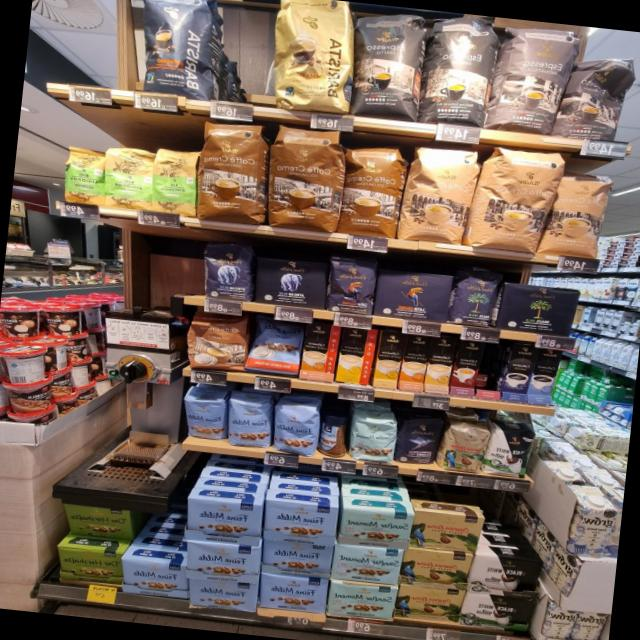AB Bohne: (200, 240, 254, 303)
AB Gemahlen: (248, 254, 329, 310)
Athiopien Bohne: (58, 144, 106, 206)
Athiopien Gemahlen: (148, 146, 200, 222), (100, 144, 156, 214)
BM Bohne: (447, 263, 504, 329)
BM Gemahlen: (496, 282, 582, 338)
BW Bohne: (480, 425, 537, 480)
BW Gemahlen: (456, 588, 540, 633), (465, 553, 544, 595)
Barista CB: (263, 0, 360, 118)
Barista Espresso: (131, 0, 222, 100)
C Fino Bohne: (393, 418, 447, 466)
CC Mild: (462, 146, 573, 254), (394, 143, 486, 247), (536, 167, 612, 262)
CC Vollmundig: (180, 309, 253, 375)
CC Vollmundig 36 Pads: (261, 124, 348, 235), (192, 116, 274, 228), (335, 143, 411, 241)
Colombia BB Bohne: (435, 422, 494, 476)
Colombia BB Gemahlen: (400, 546, 476, 590), (408, 510, 485, 553), (393, 583, 467, 623)
Empty Shelf: (472, 343, 508, 400)
Espresso Aromatisch: (482, 21, 584, 140)
Espresso Kraftig: (417, 10, 502, 129), (347, 8, 431, 124)
FM 36 Pads: (244, 319, 302, 381)
FM Bohne: (224, 393, 274, 451), (270, 398, 319, 457), (181, 394, 226, 441)
FM Gemahlen: (182, 497, 264, 547), (184, 538, 263, 586), (260, 498, 341, 544), (256, 569, 330, 613), (119, 556, 190, 598), (260, 536, 334, 576), (188, 574, 261, 614)
FM Instant: (314, 405, 354, 458)
Herzhatfe Mundig: (54, 544, 129, 585), (61, 503, 136, 542)
LG Bohne: (322, 255, 378, 317)
LG Gemahlen: (372, 267, 454, 325)
SM Bohne: (348, 413, 401, 466)
SM Gemahlen: (329, 540, 405, 586), (324, 578, 399, 624), (336, 504, 414, 548)
Simo CCMild: (333, 326, 379, 386)
Simo CCMild bigpack: (369, 329, 404, 390)
Simo CCVollmundig: (297, 322, 342, 382)
Simo CCVollmundig bigpack: (395, 332, 434, 393)
Simo Decaff: (422, 335, 459, 396)
Simo Es Kraft: (446, 340, 481, 398)
Simo Kaffee Kraft: (498, 340, 538, 404)
Simo Kaffee Mild: (525, 349, 565, 407)
